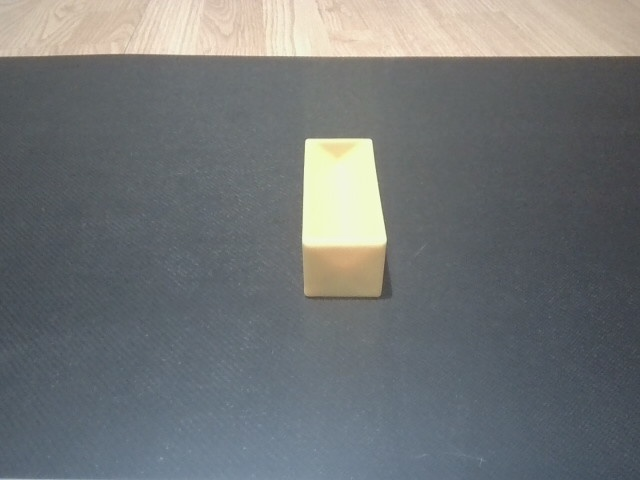YellowSample: (300, 136, 389, 299)
